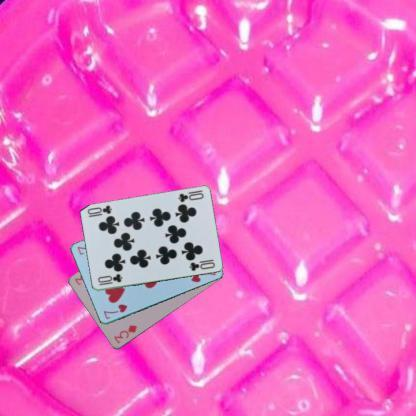10c: (95, 272, 124, 286), (176, 191, 204, 203)
3d: (111, 322, 138, 345)
7h: (101, 302, 128, 320)
